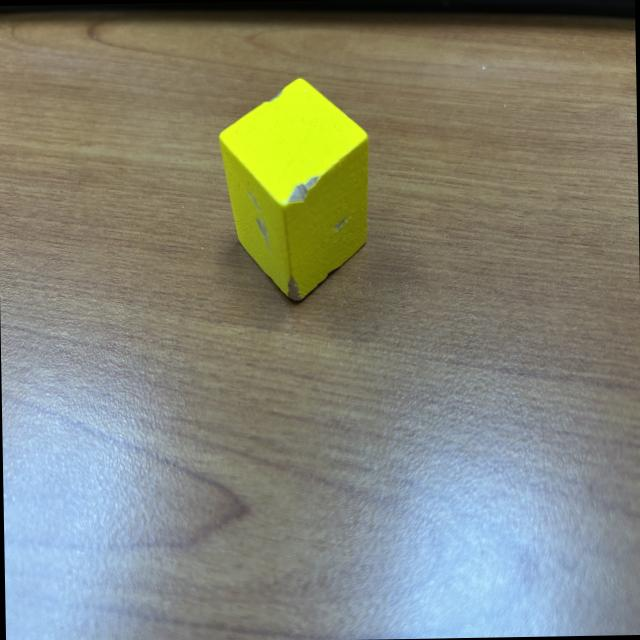broken: (216, 75, 371, 304)
